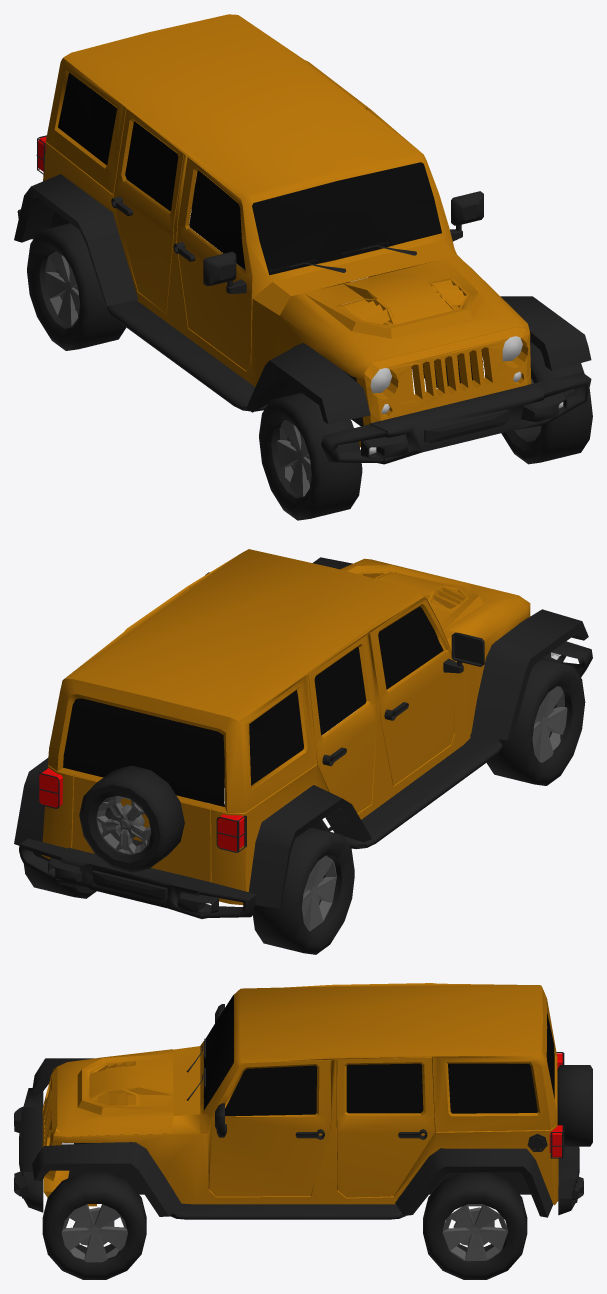
3 renders of one model, top to bottom at view 1: azimuth 30°, elevation 25°; view 2: azimuth 150°, elevation 25°; view 3: azimuth 270°, elevation 25°, orthographic. The views are drawn at different scales.
Parts seen in each view (by area): view 1: Plane014, Object026, Box006, Object028, Plane018, Object227, Plane017, Object246, Object049, Object237, Plane015, Object064 (+11 smaller); view 2: Plane014, Object053, Plane017, Object227, Object241, Object028, Plane018, Box044, Object246, Object064, Object062, Object063 (+14 smaller); view 3: Plane014, Object239, Object237, Plane015, Plane016, Object038, Object036, Object037, Object031, Object049, Object241, Plane047 (+9 smaller).
Boxes of the visible parts, x1,y1,x2,y2 form: Plane014: [43, 14, 530, 386]; Object026: [356, 326, 531, 425]; Box006: [321, 372, 591, 464]; Object028: [259, 392, 362, 520]; Plane018: [14, 174, 138, 306]; Object227: [27, 223, 126, 350]; Plane017: [246, 343, 370, 424]; Object246: [107, 300, 267, 411]; Object049: [313, 261, 453, 324]; Object237: [501, 341, 592, 464]; Plane015: [500, 296, 591, 370]; Object064: [58, 73, 117, 165]; Plane014: [41, 549, 530, 905]; Object053: [63, 698, 224, 806]; Plane017: [471, 609, 588, 740]; Object227: [253, 827, 354, 954]; Object241: [79, 765, 184, 872]; Object028: [486, 658, 585, 785]; Plane018: [249, 785, 371, 908]; Box044: [19, 838, 255, 918]; Object246: [344, 737, 502, 849]; Object064: [249, 690, 303, 785]; Object062: [378, 606, 443, 689]; Object063: [314, 647, 366, 735]; Plane014: [52, 983, 558, 1205]; Object239: [423, 1172, 527, 1279]; Object237: [42, 1171, 146, 1279]; Plane015: [32, 1142, 181, 1216]; Plane016: [395, 1148, 553, 1217]; Object038: [448, 1063, 537, 1113]; Object036: [225, 1065, 316, 1116]; Object037: [346, 1063, 423, 1113]; Object031: [170, 1203, 405, 1219]; Object049: [89, 1057, 172, 1107]; Object241: [557, 1065, 592, 1146]; Plane047: [61, 1204, 127, 1262].
Bounding box in the file's own units: 883 × 748 × 1901.
